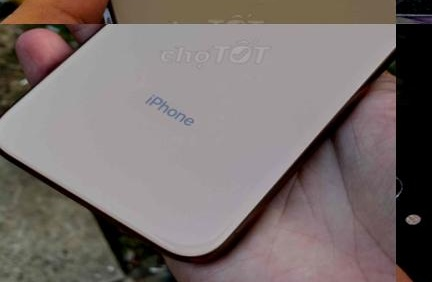scratch: (396, 0, 432, 24), (396, 172, 419, 204)
